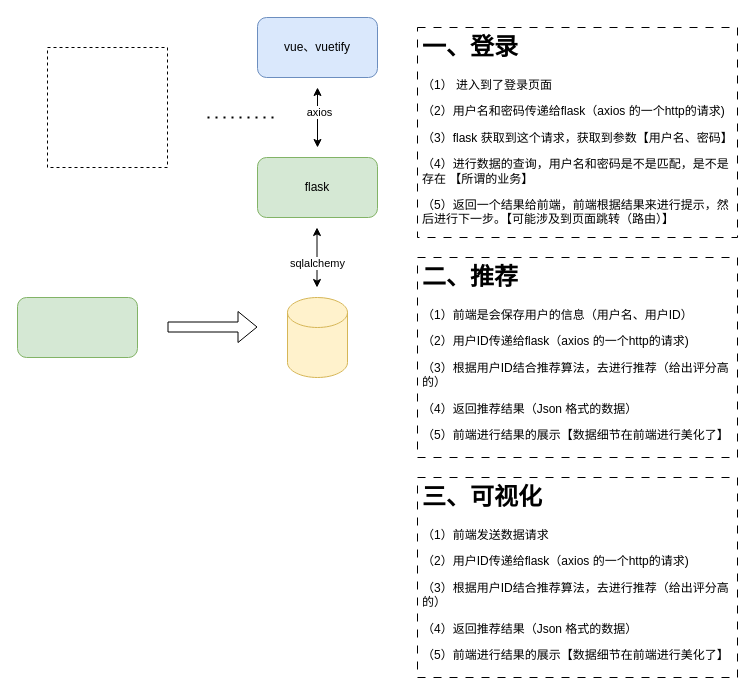
Image size: 755x695. Some labels were removed from this diagram. Each missing label, with the centre of its shape:
mysql: [317,337]
Python爬取: [77,327]
（1）发送get、post（put、delete）两种方法，参数、json发送 （2）接受，json的格式返回: [107,107]
